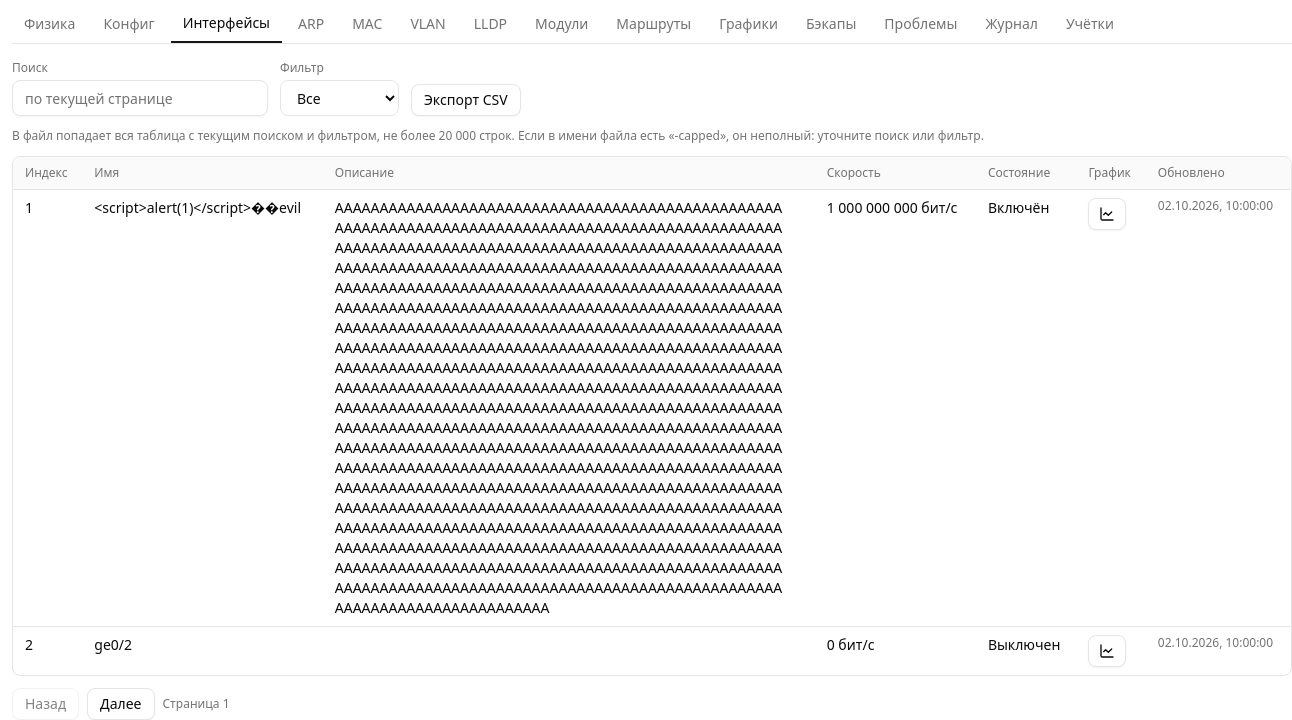
DeviceCard › pages with next_offset
The image size is (1292, 720).
(page scrolled)
Check: the text "ge0/2" is shown, box top-left (94, 635), bottom-right (132, 654)
Check: the button "Назад" is disabled, box top-left (12, 688), bottom-right (79, 719)
Click the button "Далее": click(121, 704) top-left (87, 688), bottom-right (154, 719)
(page scrolled)
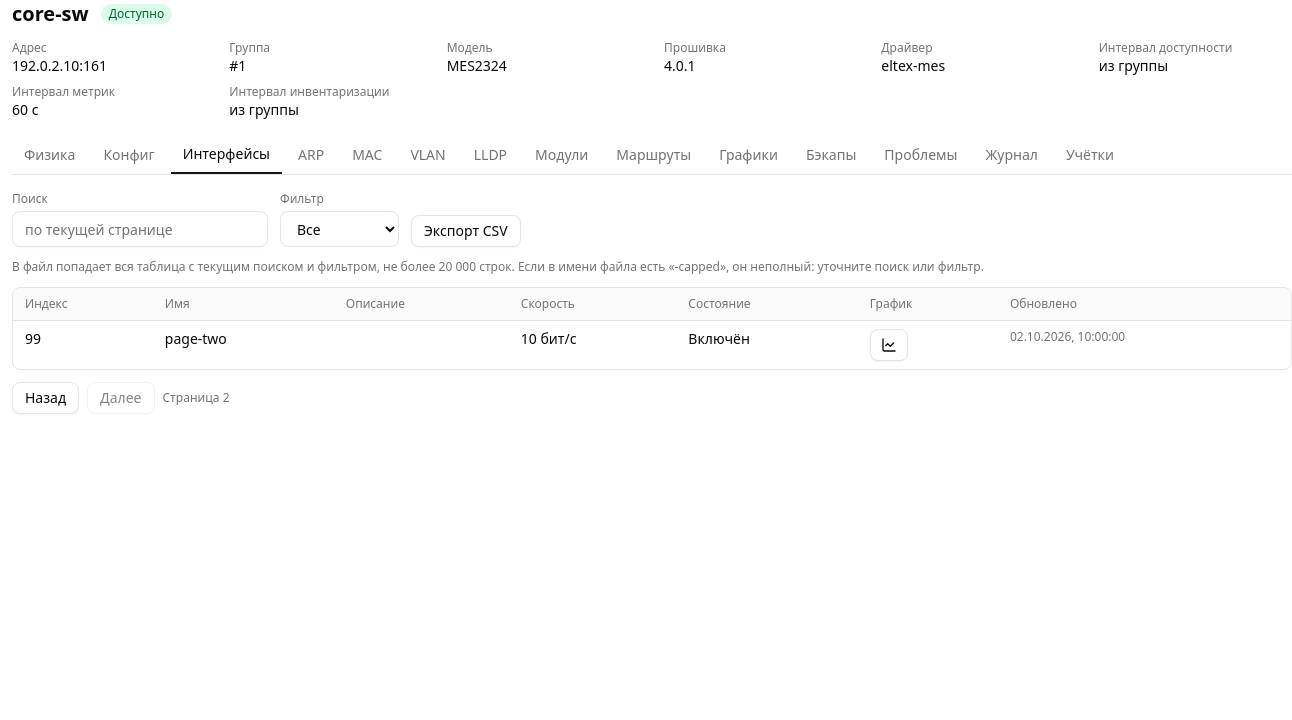
Check: the text "page-two" is shown, box top-left (165, 329), bottom-right (227, 348)
Check: the text "ge0/2" is gone
Check: the button "Далее" is disabled, box top-left (87, 382), bottom-right (154, 414)
Click the button "Назад": click(46, 398) top-left (12, 382), bottom-right (79, 414)
(page scrolled)
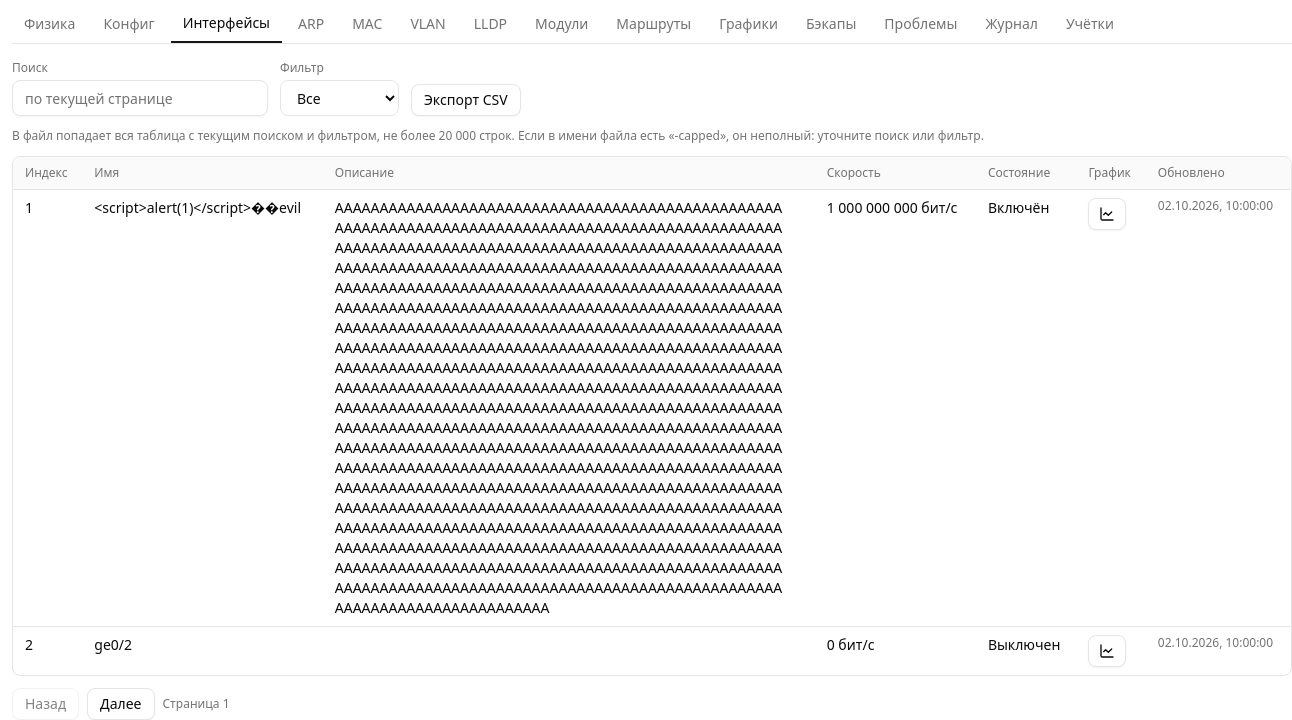
Check: the text "ge0/2" is shown, box top-left (94, 635), bottom-right (132, 654)
